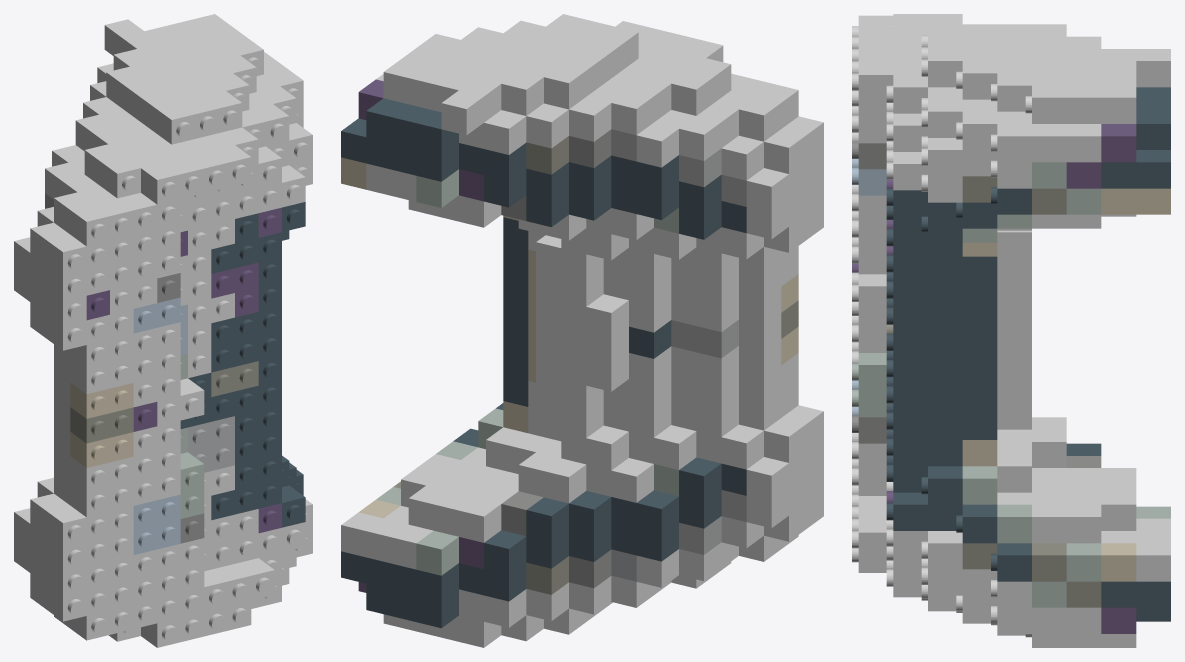
Rendered from full.glb.
3 renders of one model, left to right at view 1: azimuth 30°, elevation 25°; view 2: azimuth 150°, elevation 25°; view 3: azimuth 270°, elevation 25°, orthographic. The views are drawn at different scales.
Visible parts, largest first — view 1: world; view 2: world; view 3: world.
Part boxes in pixels (x1,y1,x2,y2): world: (14,14,312,647); world: (341,14,823,647); world: (852,14,1170,647).
Bounding box in the file's own units: 104 × 168 × 88.2.
